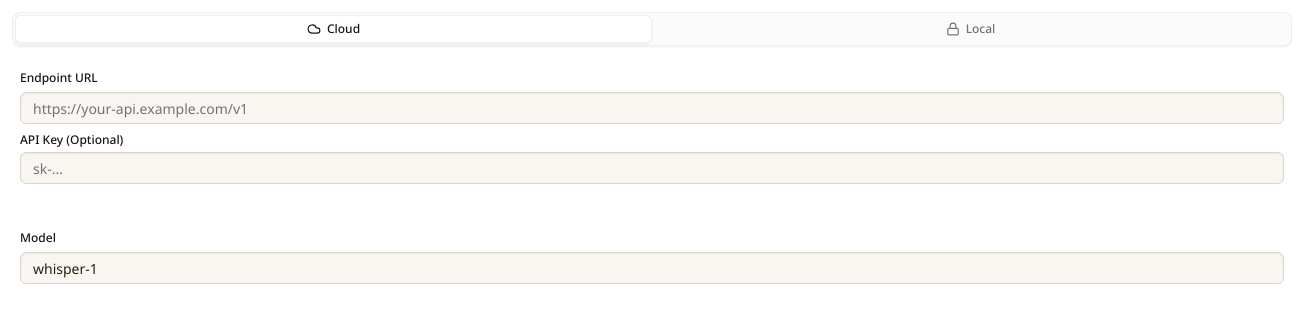
Test: TranscriptionModelPicker custom endpoint approval › distinguishes explicit cancellation without discarding the typed URL
Type "https://cancelled.example/v1" into the field labelled "Endpoint URL" at (652, 108), box [20, 92, 1284, 124]
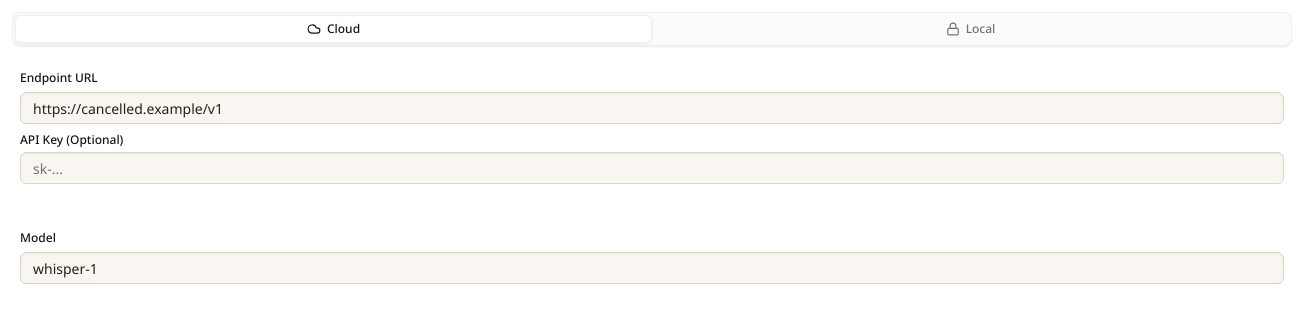
Leave the field labelled "Endpoint URL", box [20, 92, 1284, 124]
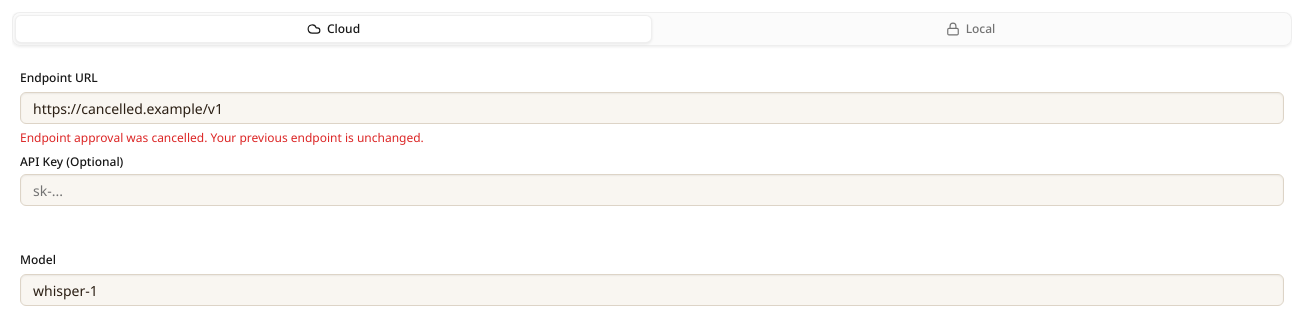
Now the message shows "approval was cancelled", box [20, 129, 424, 146]
